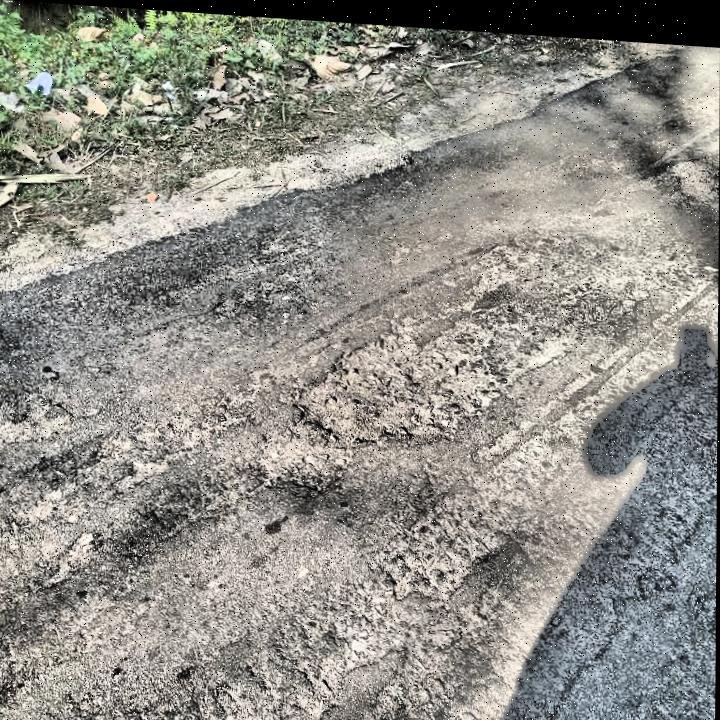pothole: (286, 311, 496, 448), (258, 433, 357, 496)
